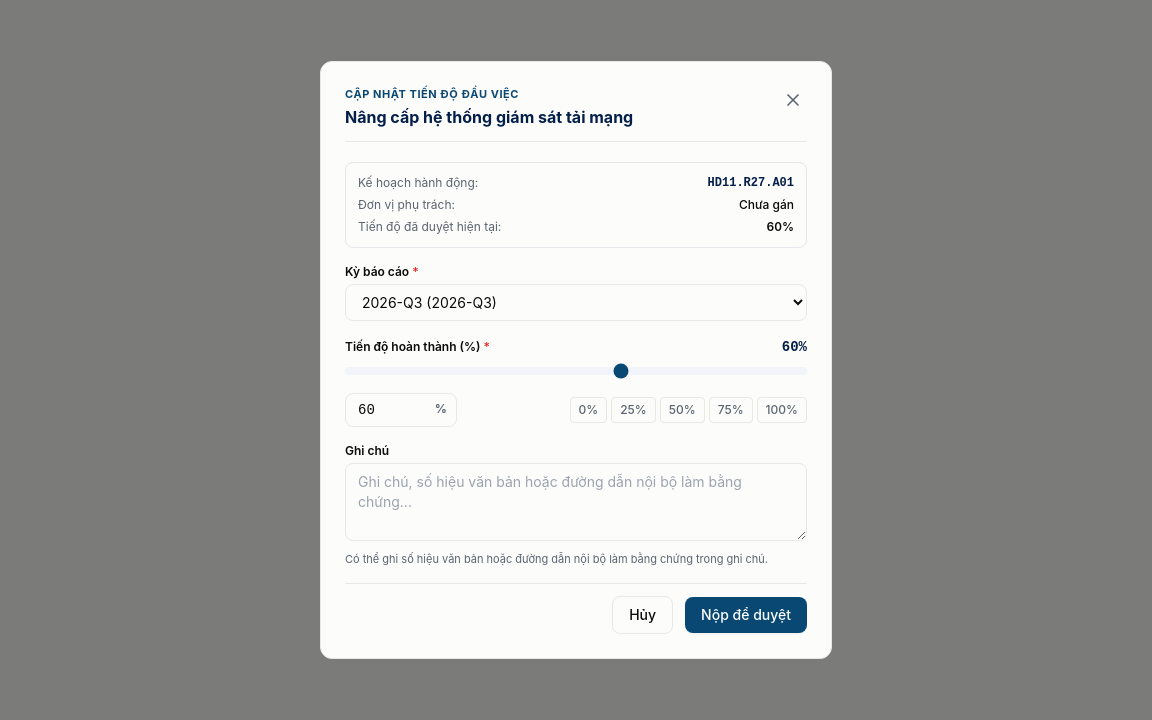
Test case: TaskUpdateForm component › synchronizes range slider, number input, and preset buttons
Expected: the number field labelled "Tiến độ hoàn thành (%) *" holds "60", [345, 392, 457, 426]
Change slider to 75
Set the slider named "thanh kéo điều chỉnh tiến độ" to "75" at (688,370), box [345, 366, 807, 374]
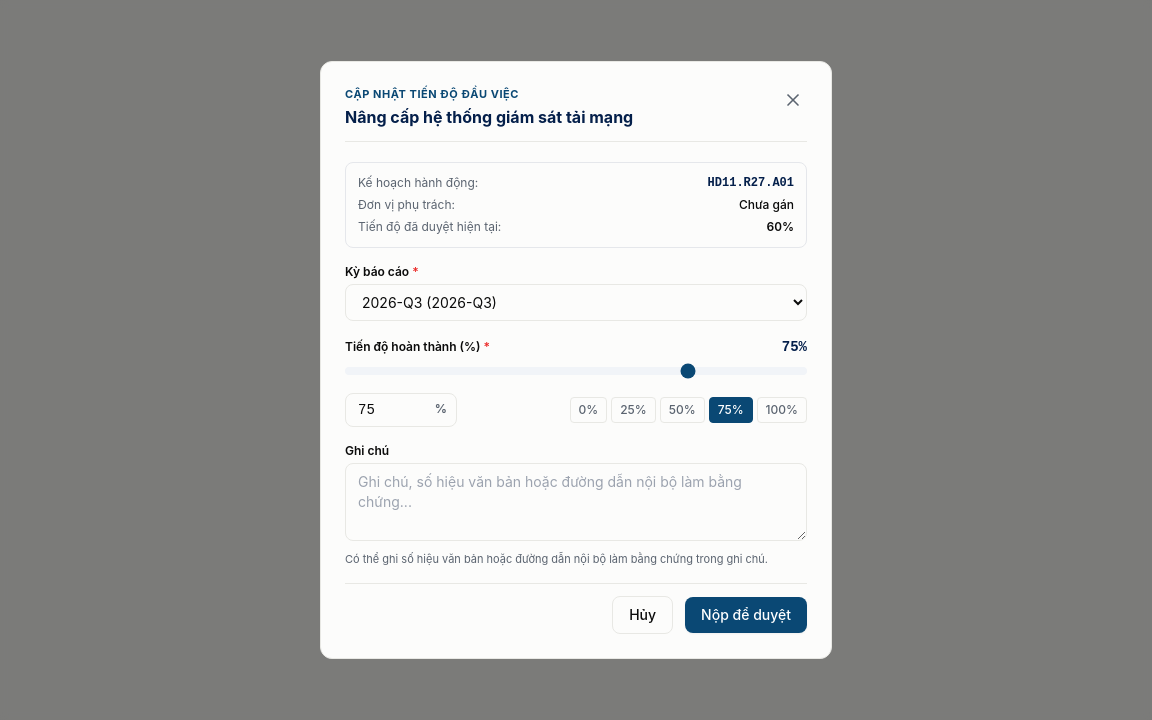
Result: the number field labelled "Tiến độ hoàn thành (%) *" holds "75"
Change number input to 80
Replace the text in the number field labelled "Tiến độ hoàn thành (%) *" with "80" at (401,410), box [345, 392, 457, 426]
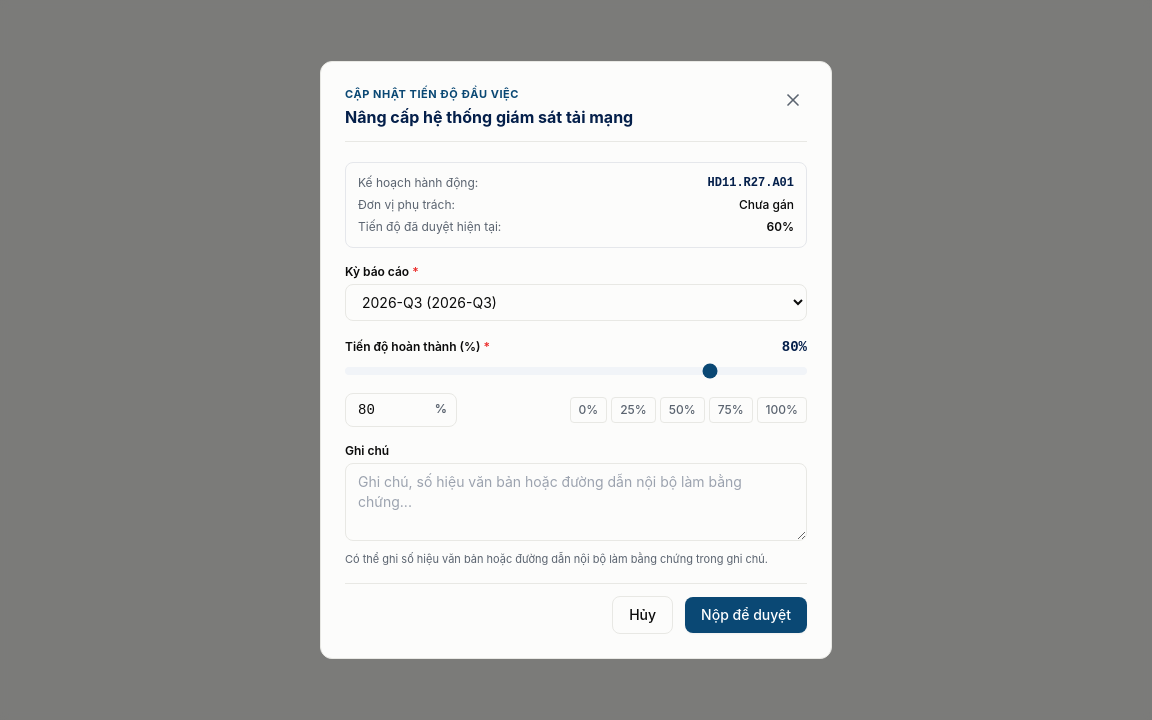
Result: the slider named "thanh kéo điều chỉnh tiến độ" holds "80" at [345, 366, 807, 374]
Click preset button 100%
Click the button "100%".
click(782, 410)  # box [757, 396, 807, 422]
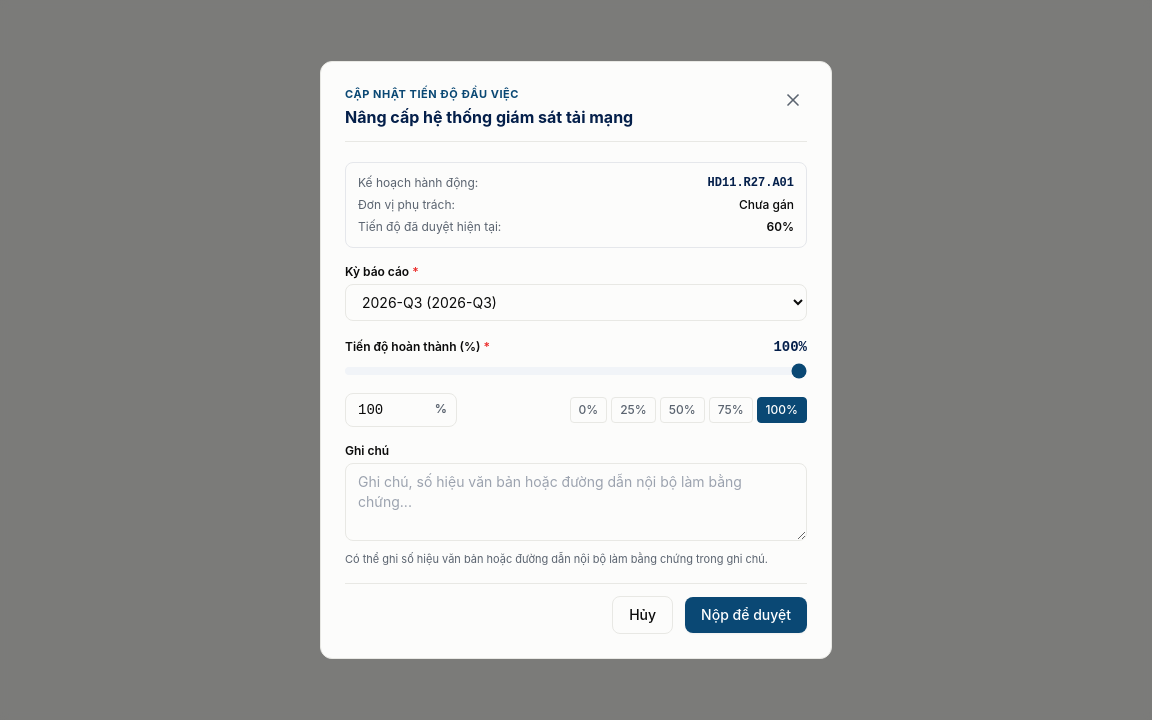
Result: the slider named "thanh kéo điều chỉnh tiến độ" holds "100" at [345, 366, 807, 374]
Result: the number field labelled "Tiến độ hoàn thành (%) *" holds "100" at [345, 392, 457, 426]
